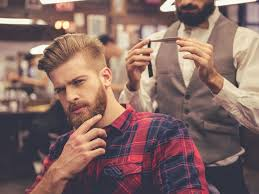b.y: (67, 101, 90, 124)
